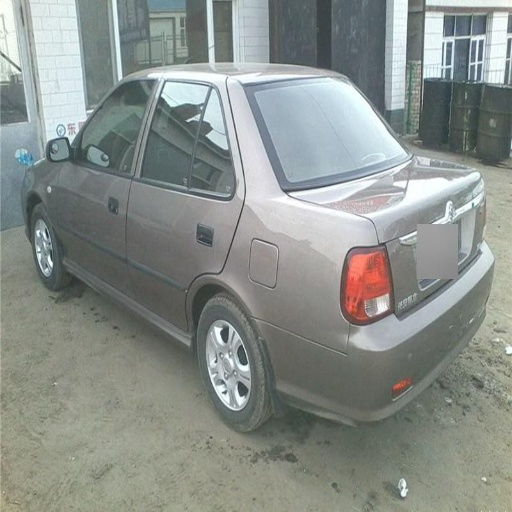back_bumper: (251, 257, 490, 424)
back_glass: (263, 83, 408, 191)
back_left_door: (127, 77, 242, 329)
back_left_light: (340, 246, 391, 323)
tailgate: (293, 158, 480, 309)
